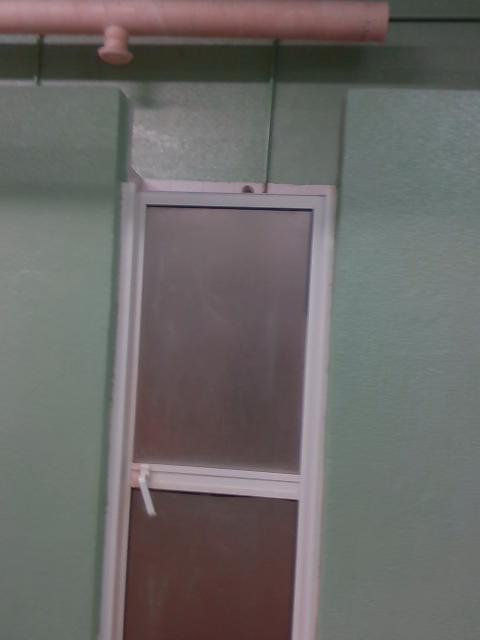closed_door: (94, 180, 327, 638)
